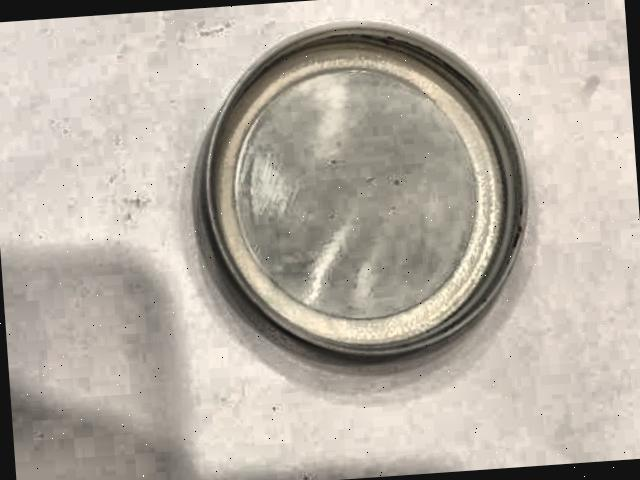Almennt: (179, 2, 546, 389)
